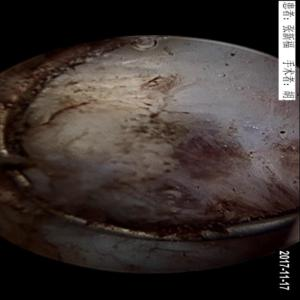film: (81, 113, 292, 218)
